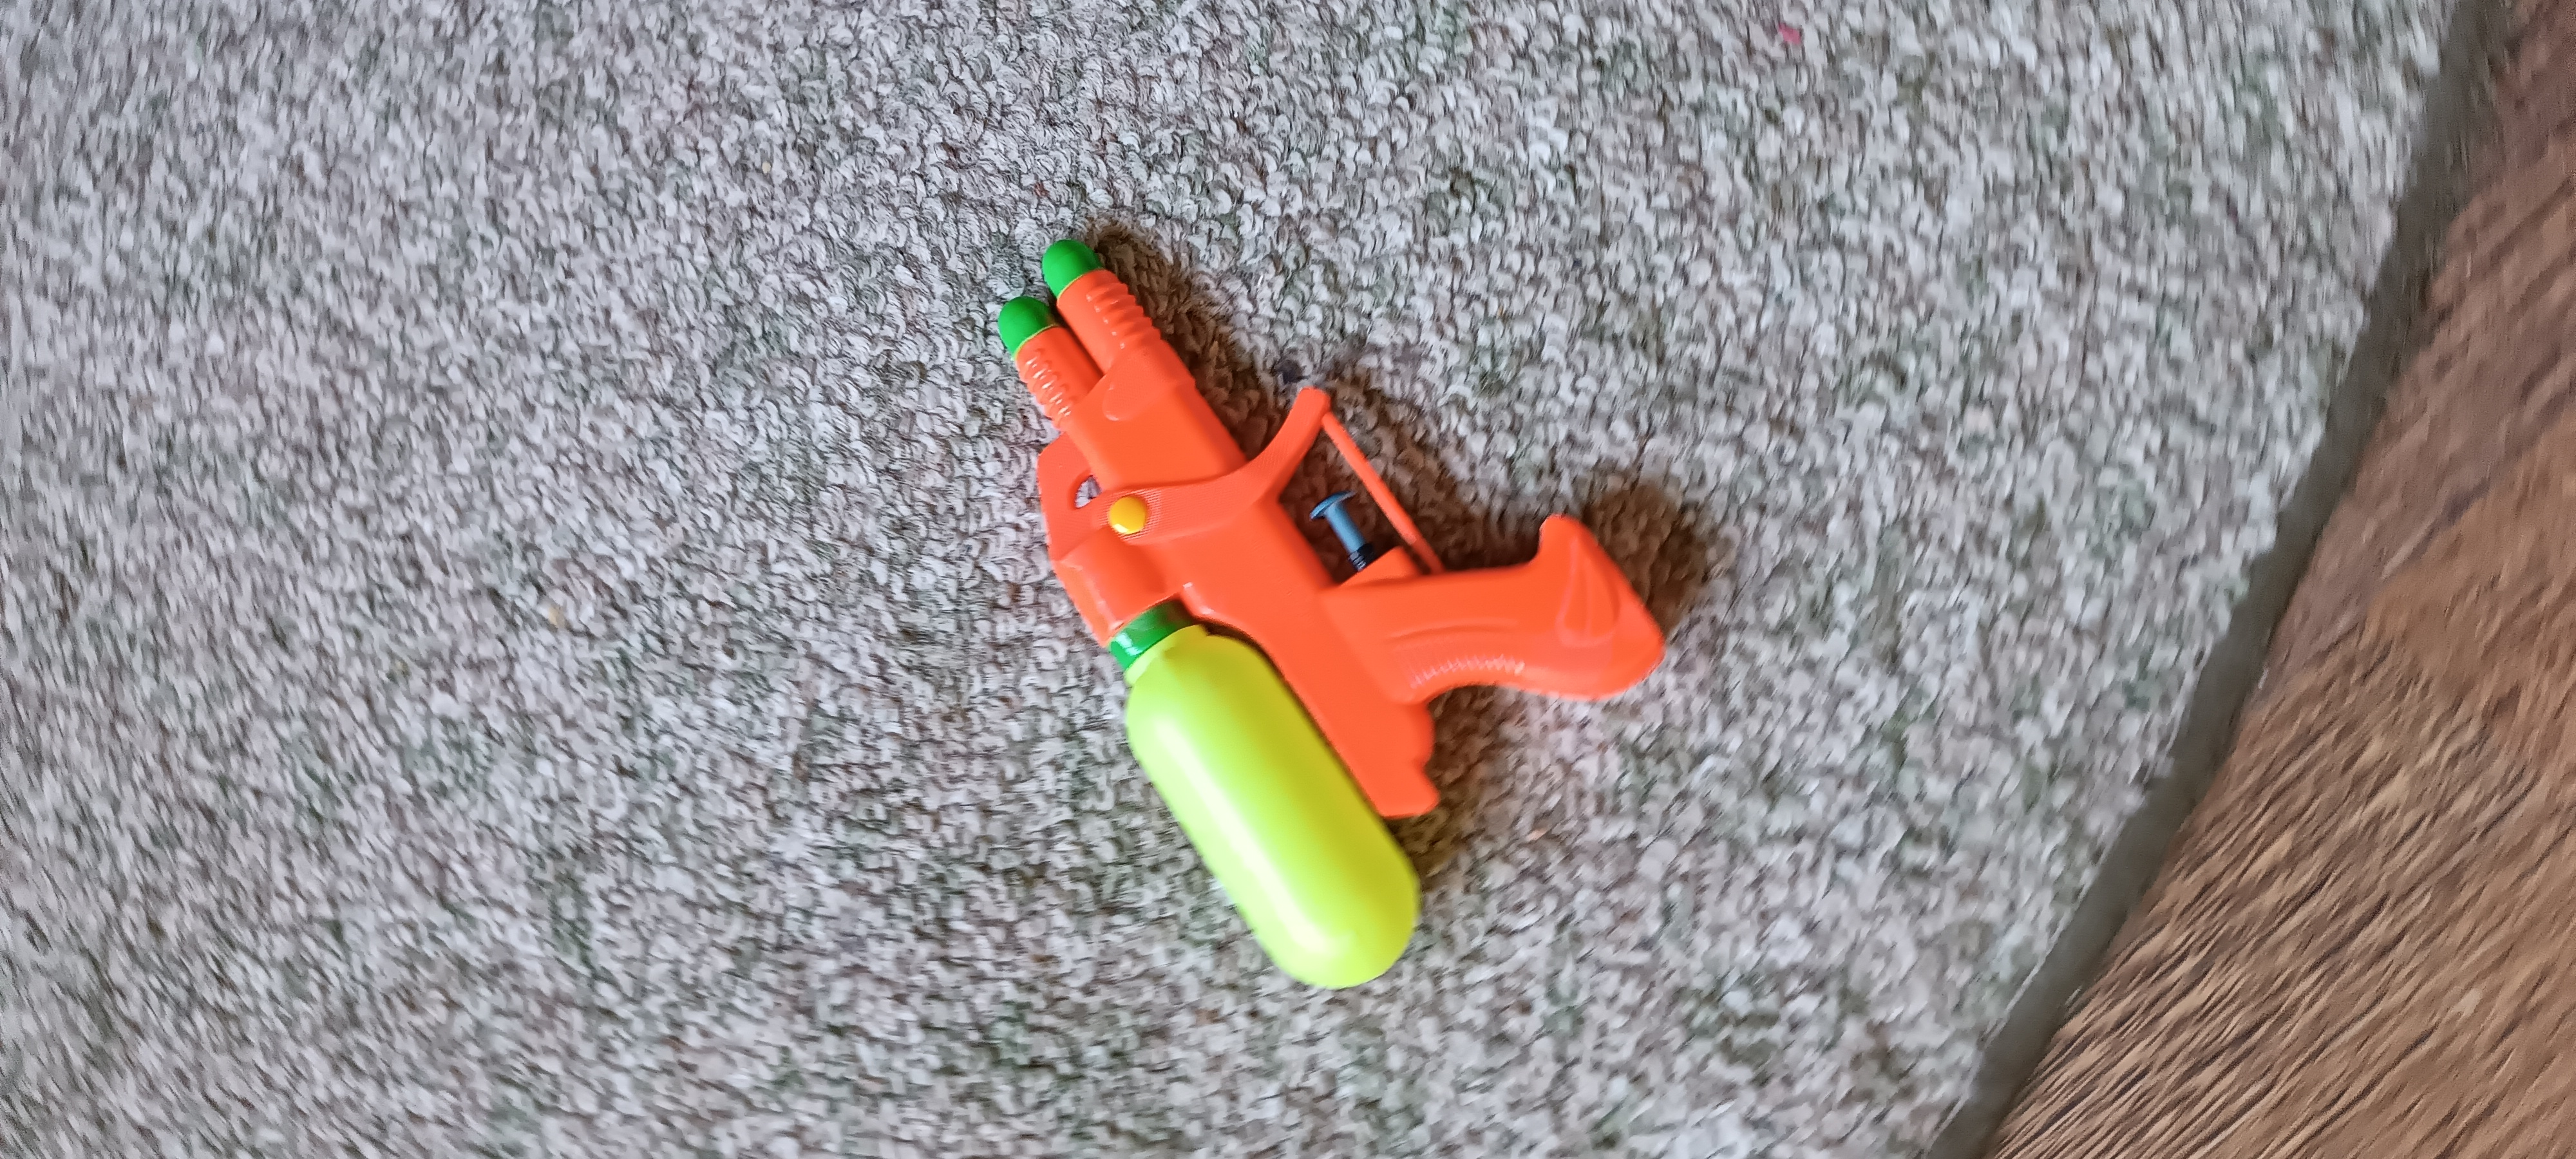Water Gun: (997, 240, 1667, 988)
